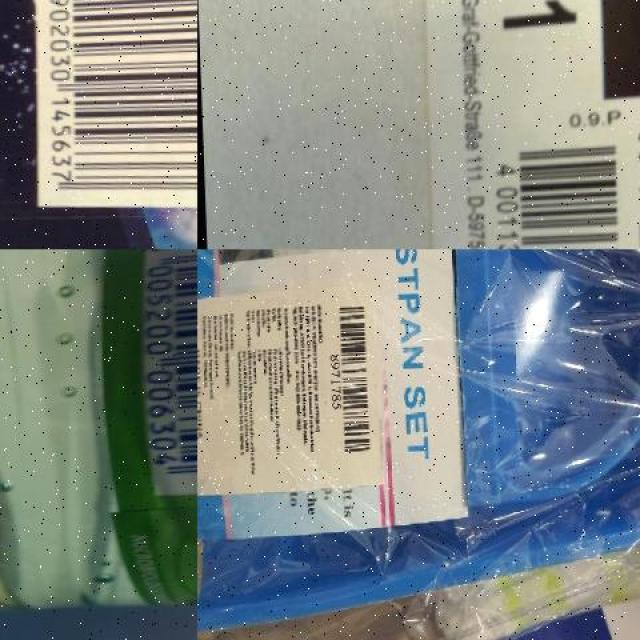Barcode: (27, 0, 197, 220), (483, 138, 625, 250), (140, 249, 197, 499), (325, 296, 375, 469)
